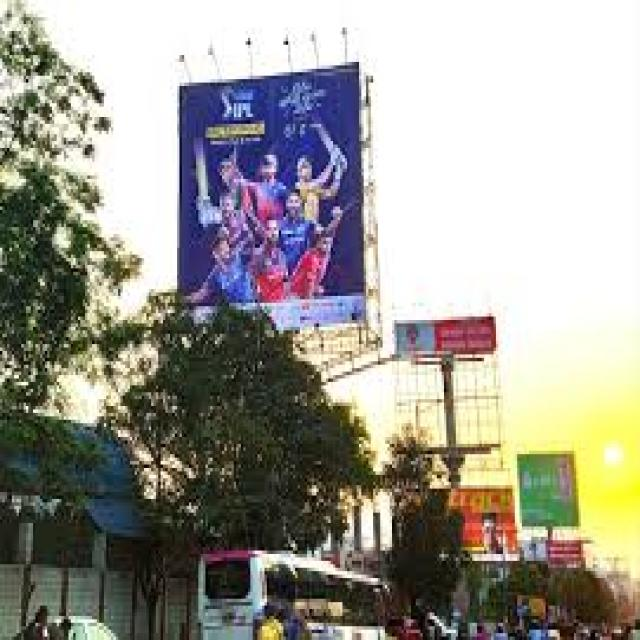Werbetafel frei: (177, 61, 361, 324), (392, 490, 523, 565), (516, 453, 578, 526), (396, 318, 496, 354)
